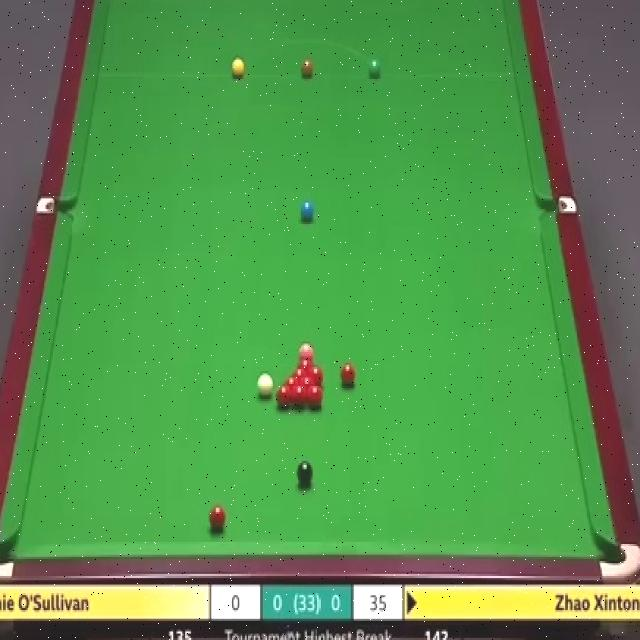black-ball: (295, 460, 314, 493)
blue-ball: (299, 198, 315, 224)
brown-ball: (300, 58, 315, 80)
green-ball: (367, 58, 382, 80)
pink-ball: (297, 342, 316, 357)
red-ball: (207, 505, 227, 534), (276, 384, 293, 409), (340, 362, 356, 388), (307, 386, 323, 410), (290, 385, 307, 407), (308, 365, 324, 384), (283, 375, 302, 389), (298, 376, 316, 388), (291, 368, 308, 380), (298, 357, 314, 368)
white-ball: (256, 371, 274, 398)
yellow-ball: (231, 57, 245, 79)
